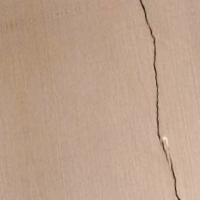crack: (132, 1, 195, 199)
